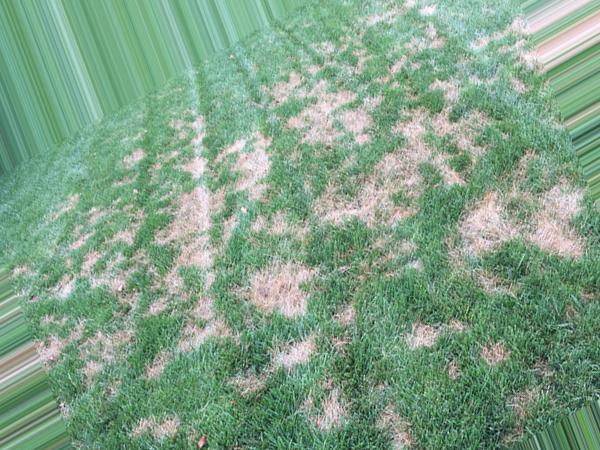patch: (345, 178, 407, 213), (498, 197, 545, 239), (254, 265, 299, 305), (178, 198, 217, 236), (184, 251, 216, 285), (238, 146, 270, 177), (306, 112, 338, 135)
